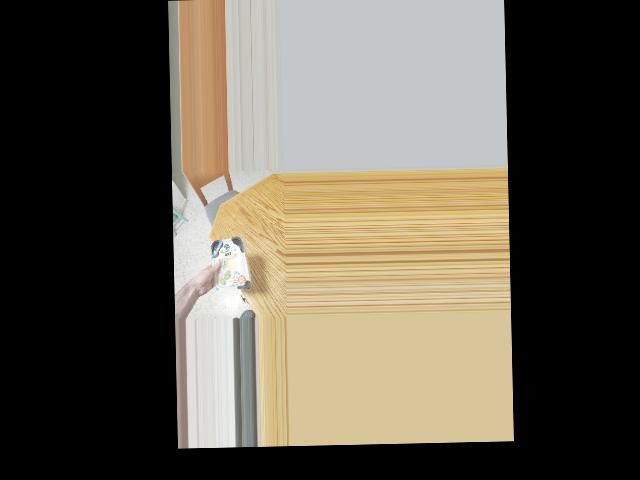cheese: (204, 237, 250, 291)
